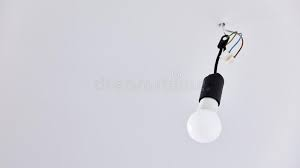bulb: (180, 93, 232, 145)
